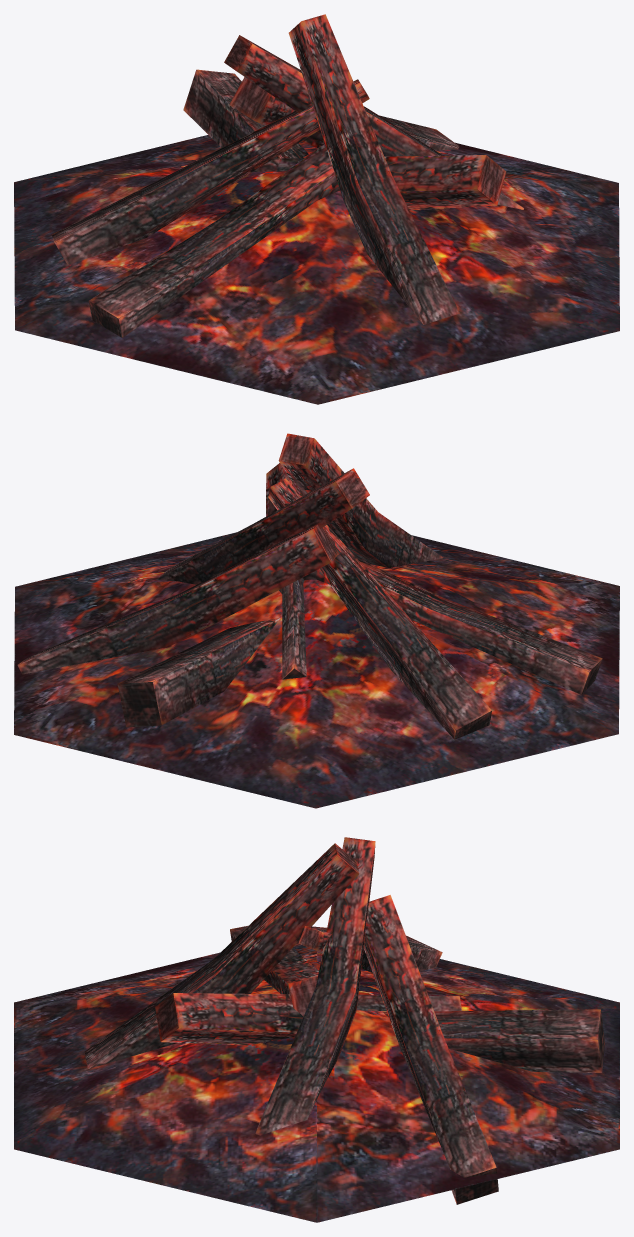
File: Campfire.fbx
3 views of the same model, one above another, from view 1: azimuth 30°, elevation 25°; view 2: azimuth 150°, elevation 25°; view 3: azimuth 270°, elevation 25° (orthographic).
Parts seen in each view (by area): view 1: Campfire1; view 2: Campfire1; view 3: Campfire1.
Part boxes in pixels (bbox=[...]): Campfire1: bbox=[14, 14, 619, 404]; Campfire1: bbox=[14, 433, 619, 808]; Campfire1: bbox=[14, 837, 619, 1222].
Size of the model in its own units: 112 by 46.7 by 97.67.
